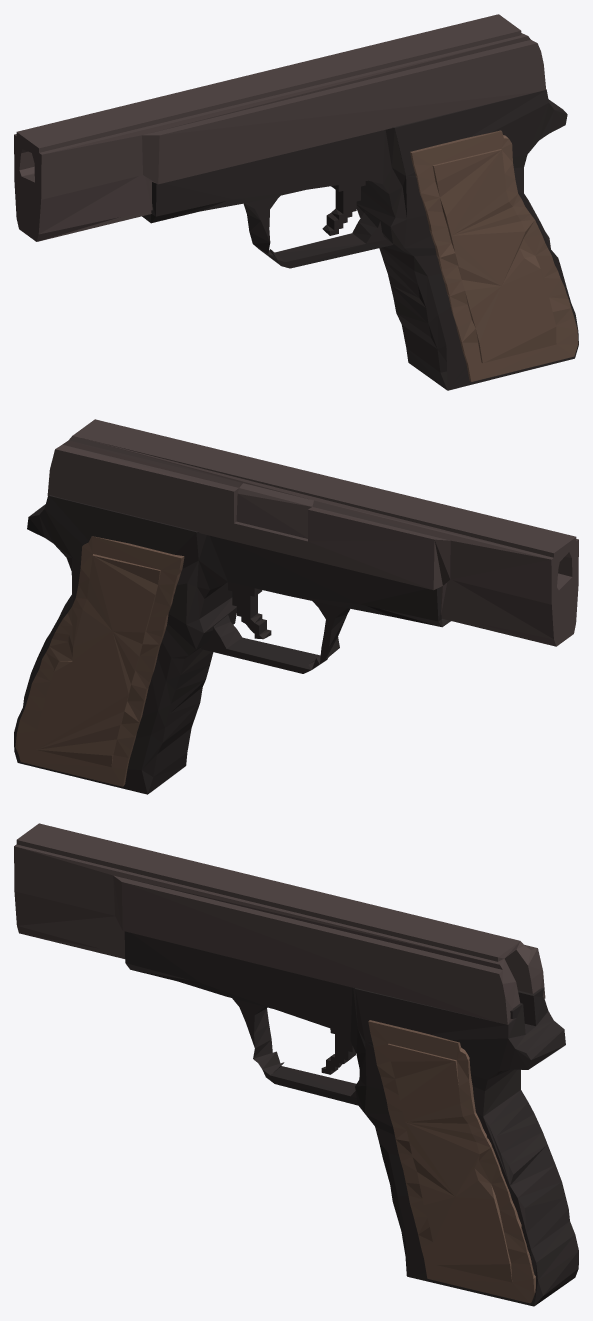
The model's file is pistol.fbx.
3 views of the same model, one above another, from view 1: azimuth 30°, elevation 25°; view 2: azimuth 150°, elevation 25°; view 3: azimuth 330°, elevation 25° (orthographic).
Parts seen in each view (by area): view 1: Head.004, Body.003, Handle Brown.001, Trigger.002, Trigger.004; view 2: Head.004, Body.003, Handle Brown.001, Trigger.002, Trigger.004; view 3: Head.004, Body.003, Handle Brown.001, Trigger.002, Trigger.004.
Part boxes in pixels (<box>): Head.004: <box>14,14,546,241</box>; Body.003: <box>142,89,578,390</box>; Handle Brown.001: <box>410,130,578,381</box>; Trigger.002: <box>243,195,392,268</box>; Trigger.004: <box>322,181,365,235</box>; Head.004: <box>47,419,578,646</box>; Body.003: <box>14,495,450,794</box>; Handle Brown.001: <box>15,536,184,786</box>; Trigger.002: <box>201,601,349,673</box>; Trigger.004: <box>228,582,271,639</box>; Head.004: <box>14,823,545,1024</box>; Body.003: <box>124,931,578,1306</box>; Handle Brown.001: <box>368,1020,535,1303</box>; Trigger.002: <box>232,998,357,1105</box>; Trigger.004: <box>321,1028,355,1074</box>.
Bounding box in the file's own units: 223 × 133 × 32.99.
